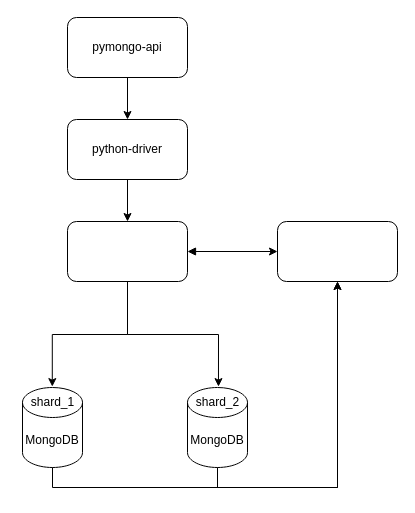
Image size: 415x513. Some labels were removed from this diagram. Each missing label, with the centre of its shape:
"mongo configuration service" belongs at point 337,251.
"mongo router" belongs at point 127,251.
